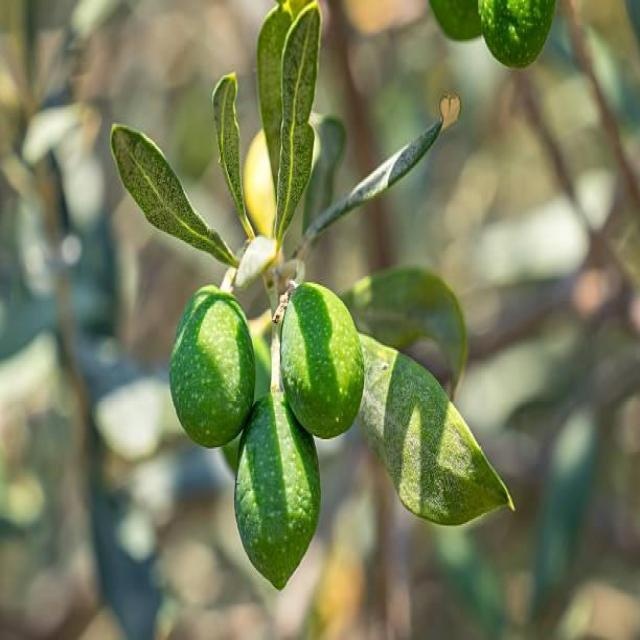Healthy: (234, 392, 320, 588), (169, 285, 255, 444), (281, 282, 363, 438)
